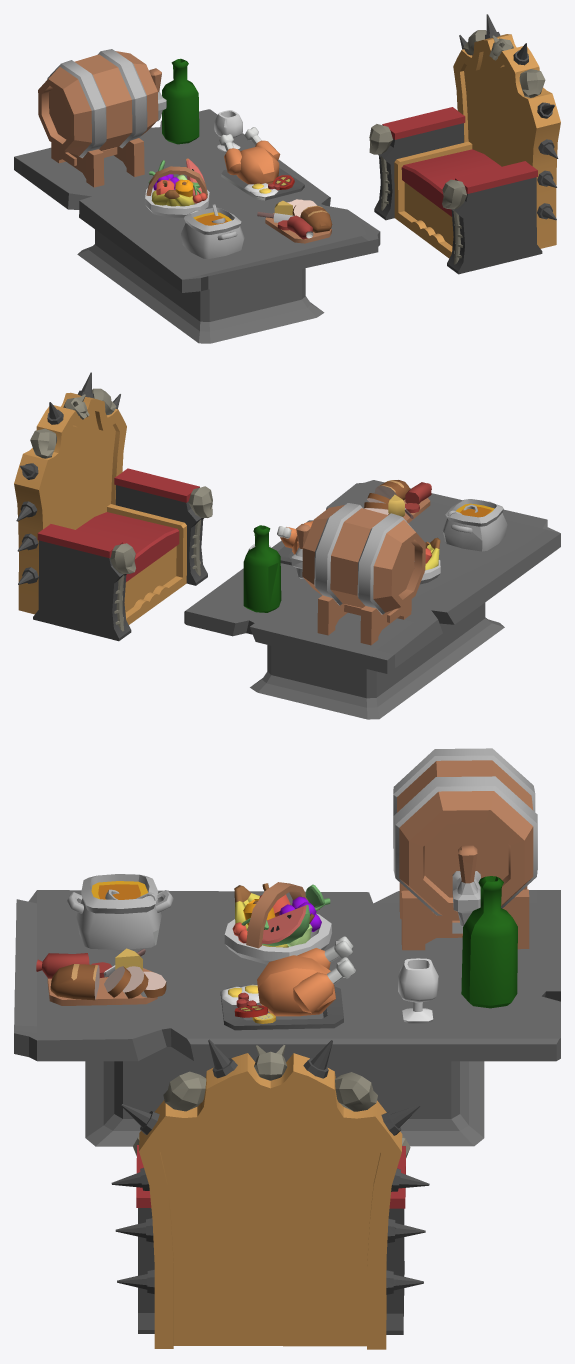
The model's file is GluttonyFeast.fbx.
The picture shows the model from 3 angles, top to bottom: view 1: azimuth 30°, elevation 25°; view 2: azimuth 150°, elevation 25°; view 3: azimuth 270°, elevation 25°; orthographic projection. The views are drawn at different scales.
Parts seen in each view (by area): view 1: table, throne, prefab4, prefab2, prefab6, prefab5, prefab3, prefab1; view 2: throne, table, prefab4, prefab3, prefab6, prefab1, prefab5, prefab2; view 3: throne, table, prefab4, prefab2, prefab6, prefab5, prefab3, prefab1.
Part boxes in pixels (<box>): table: <box>14,109,380,343</box>; throne: <box>369,14,560,274</box>; prefab4: <box>38,49,166,187</box>; prefab2: <box>219,127,304,200</box>; prefab6: <box>162,58,242,152</box>; prefab5: <box>144,158,209,217</box>; prefab3: <box>181,204,244,259</box>; prefab1: <box>257,199,332,243</box>; throne: <box>14,372,212,641</box>; table: <box>184,480,560,719</box>; prefab4: <box>291,503,425,645</box>; prefab3: <box>442,499,507,551</box>; prefab6: <box>243,525,281,612</box>; prefab1: <box>364,480,431,523</box>; prefab5: <box>420,537,440,584</box>; prefab2: <box>277,521,312,565</box>; throne: <box>111,1039,429,1349</box>; table: <box>14,890,560,1146</box>; prefab4: <box>393,748,537,950</box>; prefab2: <box>220,936,355,1030</box>; prefab6: <box>398,876,517,1023</box>; prefab5: <box>224,882,331,964</box>; prefab3: <box>67,874,173,949</box>; prefab1: <box>36,948,166,1005</box>.
Size of the model in its own units: 2.87 by 1.32 by 2.11.
